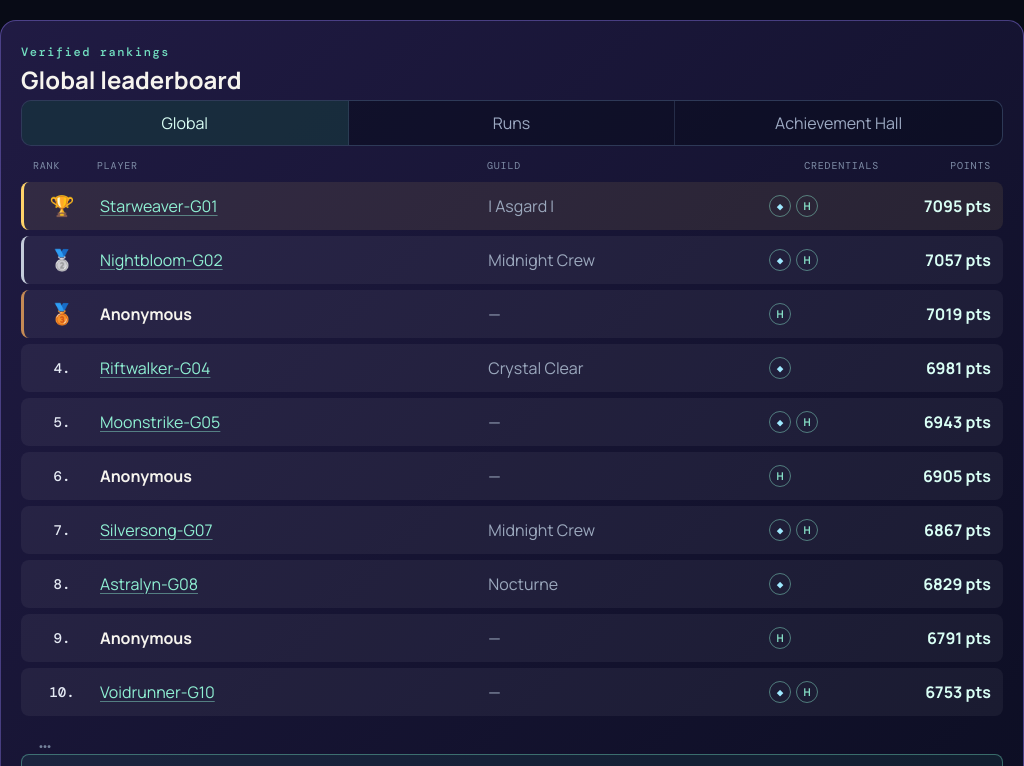
Test: optional online profile › uses localhost fixtures only after a successful empty response and opens trainer profiles
Click the button "Runs". click: click(512, 123)
box: [349, 101, 675, 145]
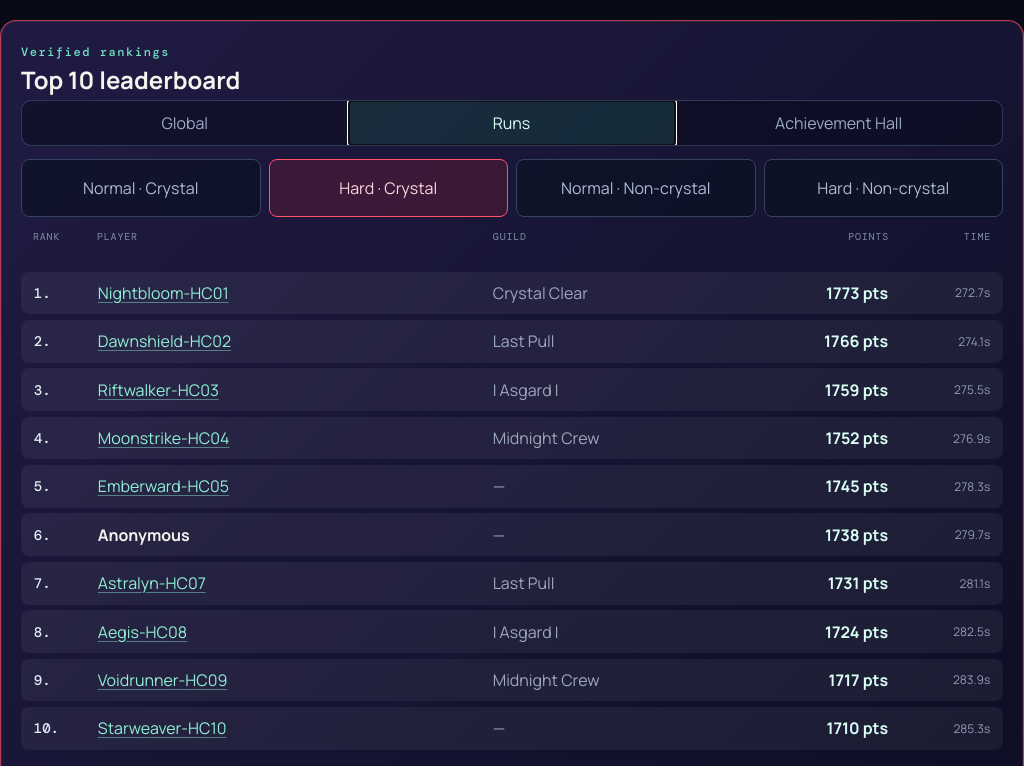
Result: the list "Nightbloom-HC01" shows "Dawnshield-HC02" at [98, 330, 481, 352]
Click the button "Normal · Non-crystal". click: click(636, 188)
box: [516, 159, 756, 217]
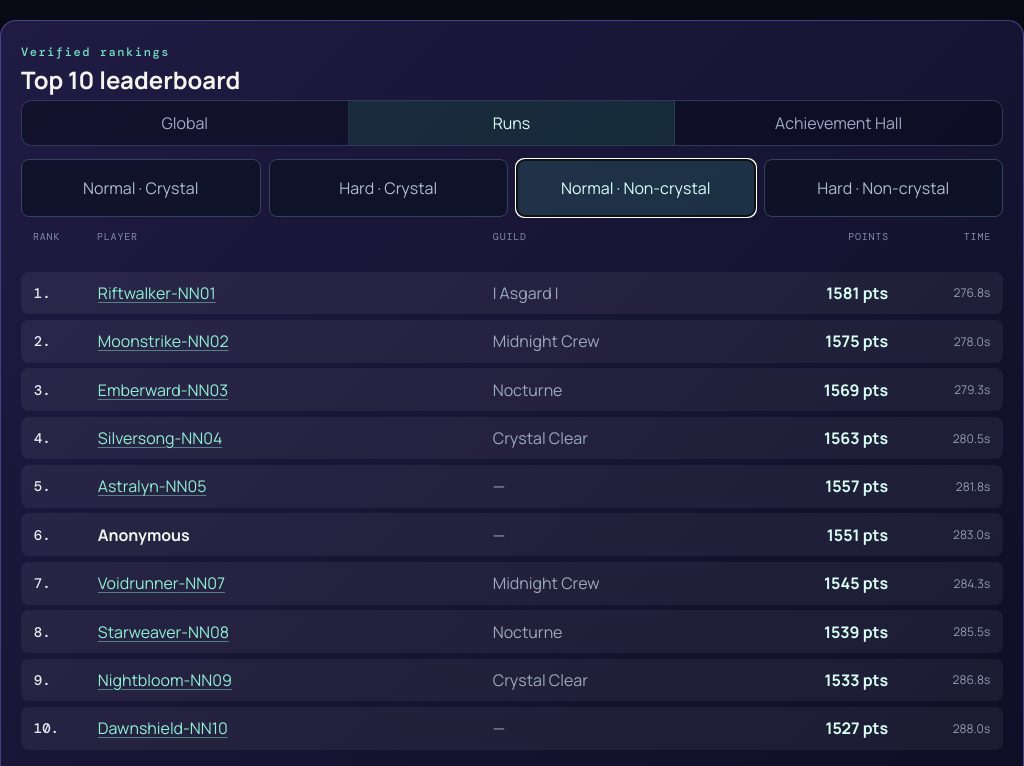
Result: the button "Riftwalker-NN01" is shown at [98, 282, 481, 304]
